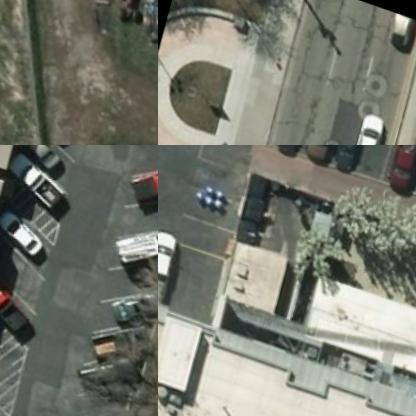car: (2, 153, 74, 215), (0, 201, 55, 264), (81, 344, 142, 398), (112, 214, 157, 277), (108, 283, 157, 337), (0, 275, 40, 338), (158, 223, 186, 310), (2, 145, 74, 178), (128, 149, 157, 211), (348, 110, 391, 144), (389, 145, 415, 190), (332, 145, 371, 174), (306, 145, 345, 163), (275, 145, 315, 157)
